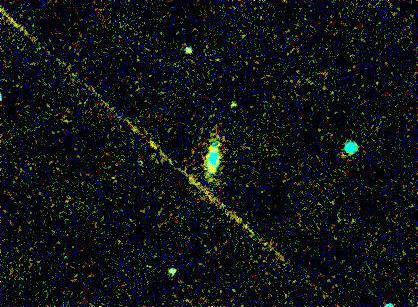star: (220, 89, 250, 119)
